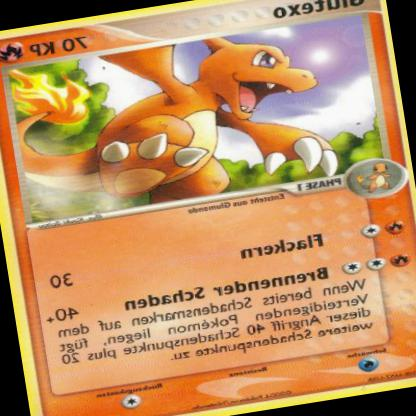Charmeleon: (16, 23, 343, 222)
